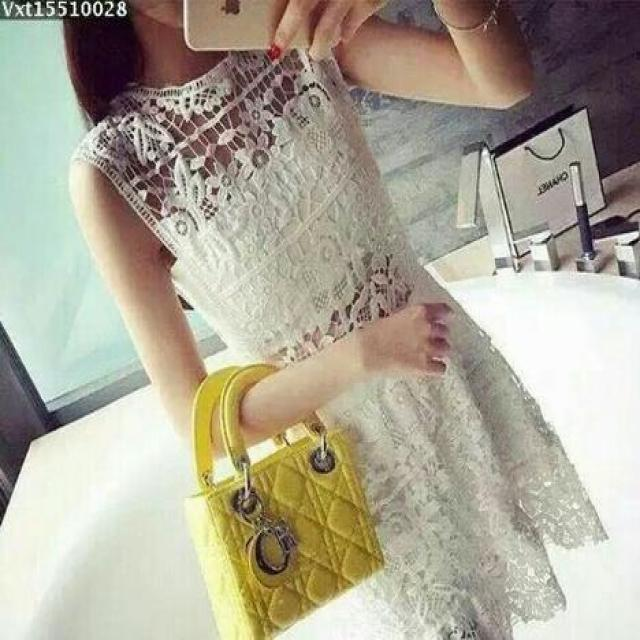vest dress: (72, 3, 606, 635)
